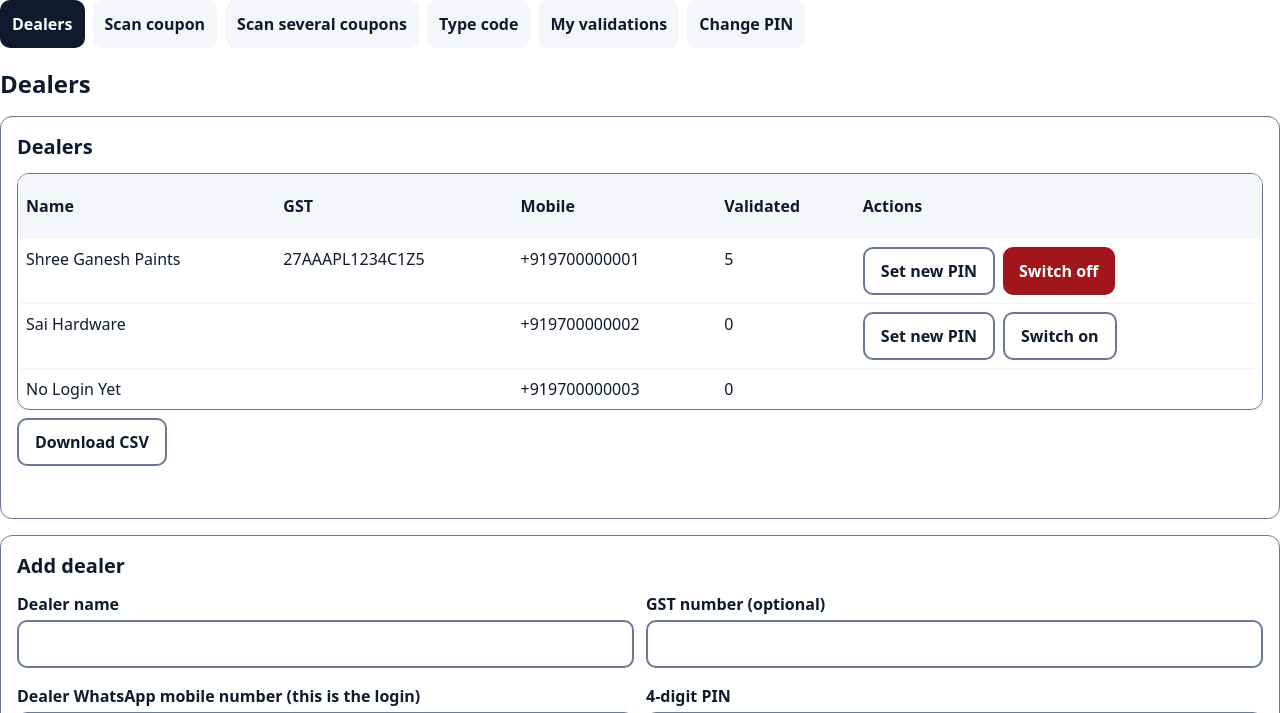
Test case: distributor and sales rep: dealers › switches a dealer login off and on
What coordinates should you click on to do the following:
click the button "Switch off"
I would click on:
 (1059, 271)
Its box is [1003, 247, 1114, 295].
(page scrolled)
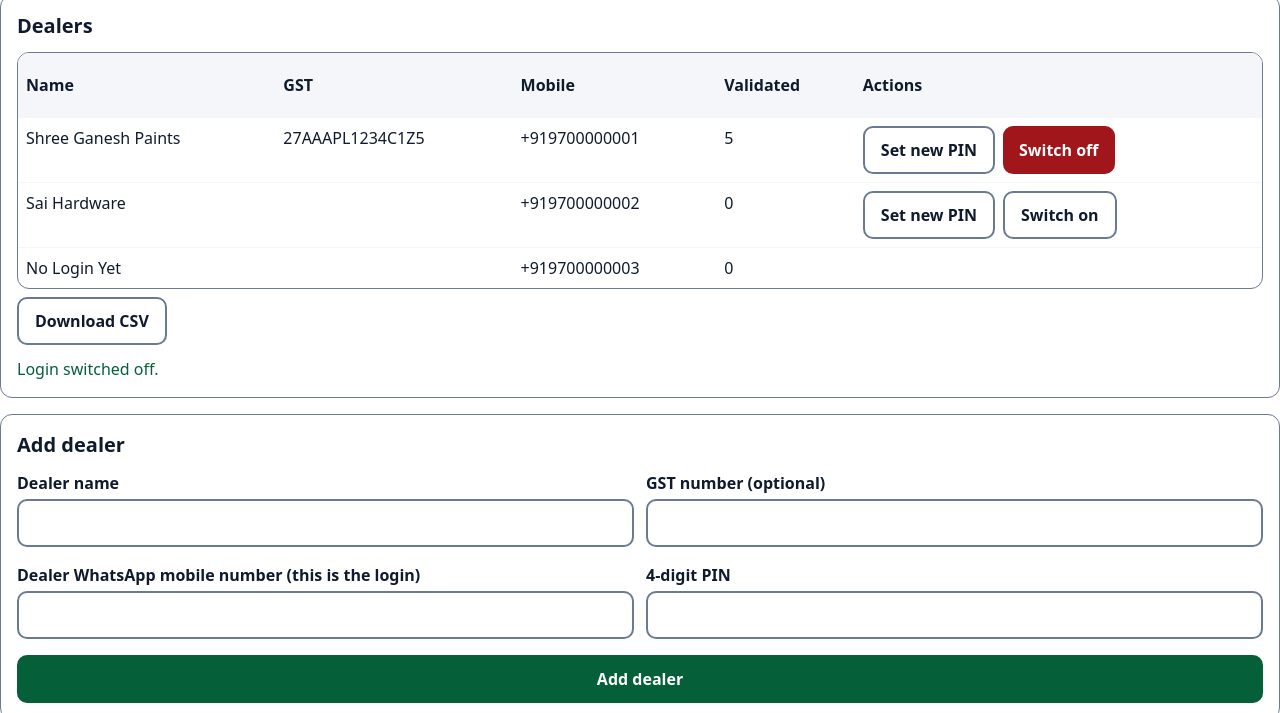
Check: the text "Login switched off." is shown, box [17, 358, 158, 380]
What coordinates should you click on to do the following:
click the button "Switch on"
I would click on:
 (1060, 215)
Its box is [1003, 191, 1117, 239].
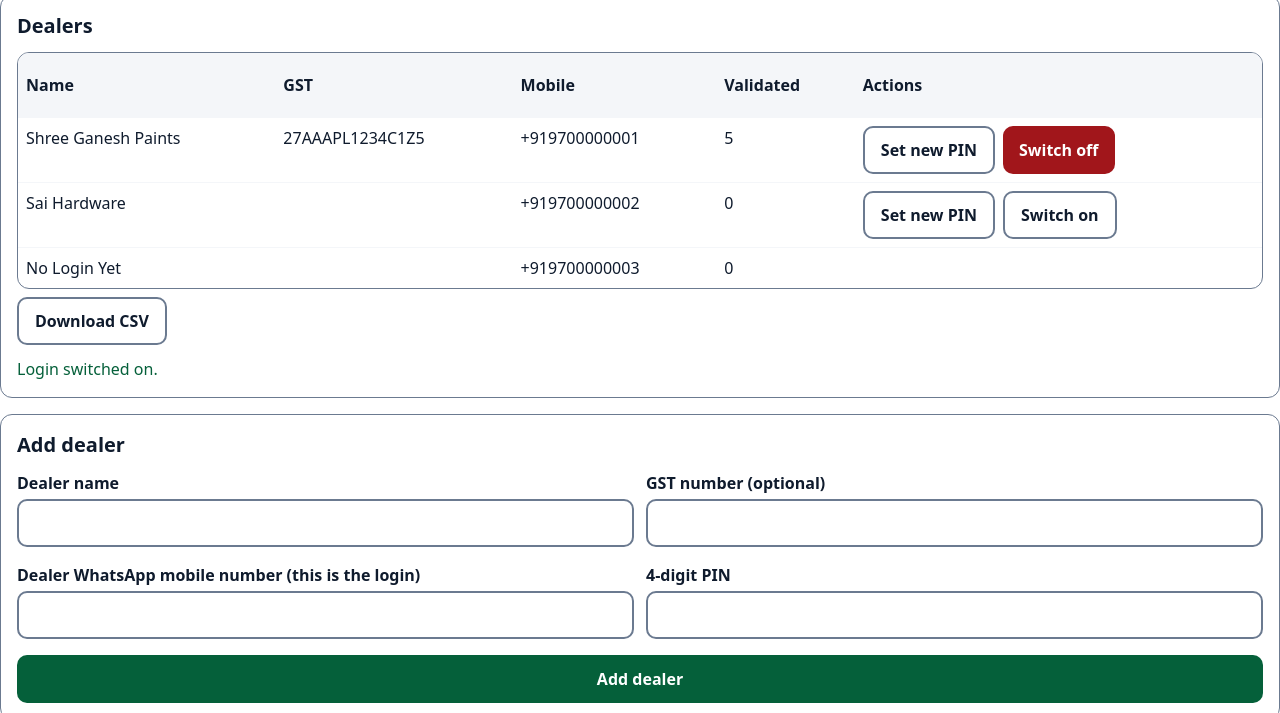
Check: the text "Login switched on." is shown, box [17, 358, 158, 380]
